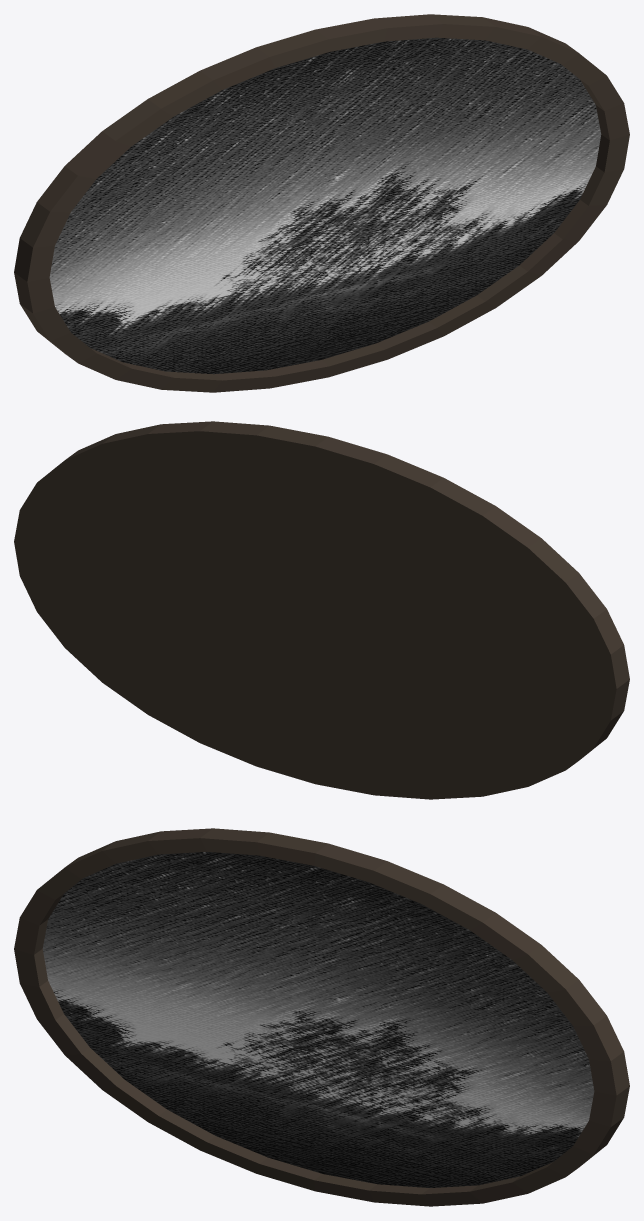
Rendered from lukisan galeri 4.fbx.
3 renders of one model, top to bottom at view 1: azimuth 30°, elevation 25°; view 2: azimuth 150°, elevation 25°; view 3: azimuth 330°, elevation 25°, orthographic.
Parts seen in each view (by area): view 1: Cylinder; view 2: Cylinder; view 3: Cylinder.
Part boxes in pixels (x1,y1,x2,y2): Cylinder: (14, 14, 629, 392); Cylinder: (14, 421, 629, 799); Cylinder: (14, 828, 629, 1206).
Size of the model in its own units: 491 by 263 by 20.61.
1 material, 1 textured.
